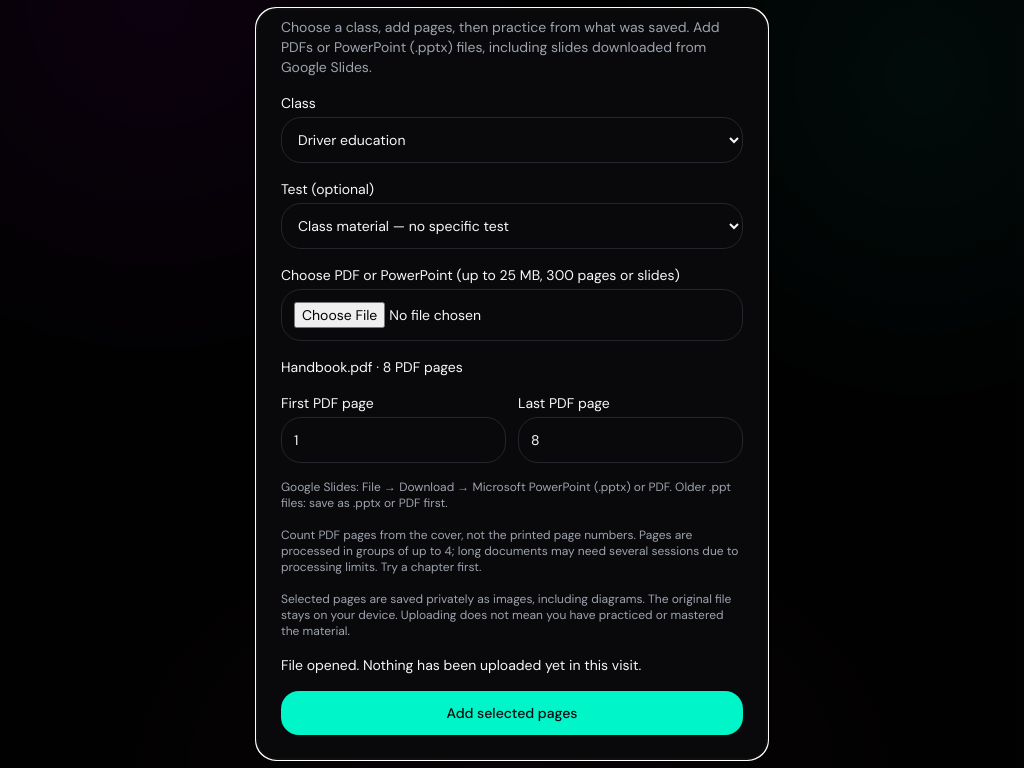
Test: PDF study import UI › shows a mismatch, never auto-Keeps, and preserves the warning after remount
Earlier steps of the test are not shown.
Later steps or results of the test are not shown.
(page scrolled)
expect the text "Handbook.pdf · 8 PDF pages" is shown: met, box [281, 358, 463, 376]
Click the button "Add selected pages".
click(512, 713)  # box [281, 691, 743, 735]
(page scrolled)
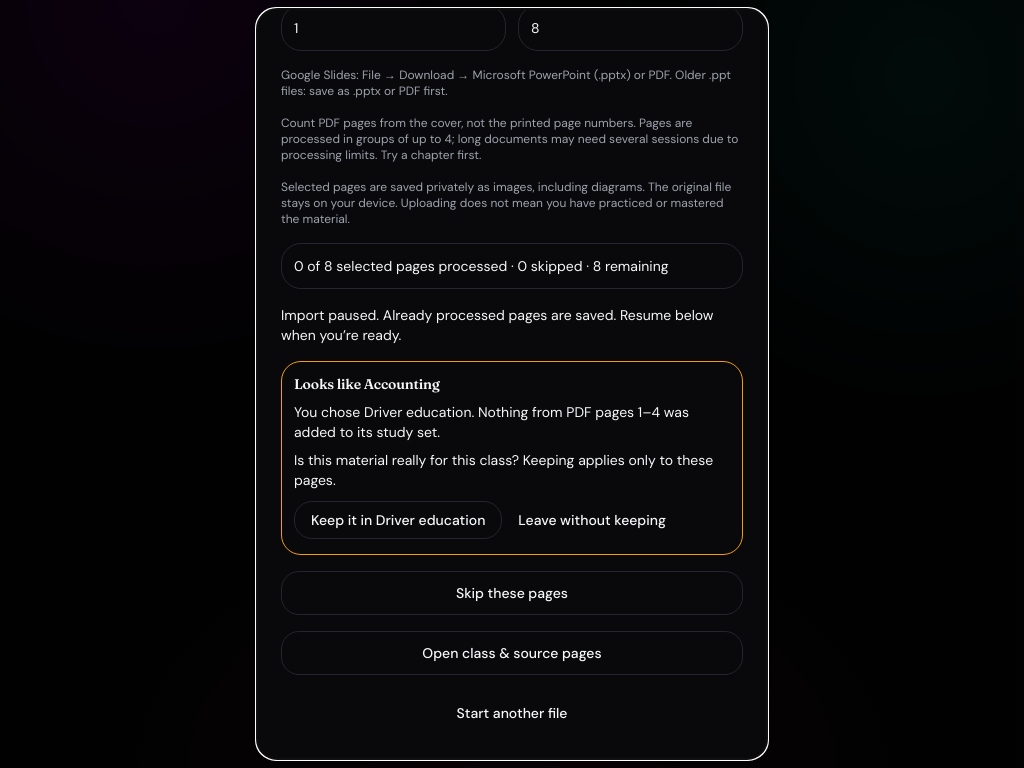
expect the heading "Looks like Accounting" is shown: met, box [294, 375, 440, 393]
